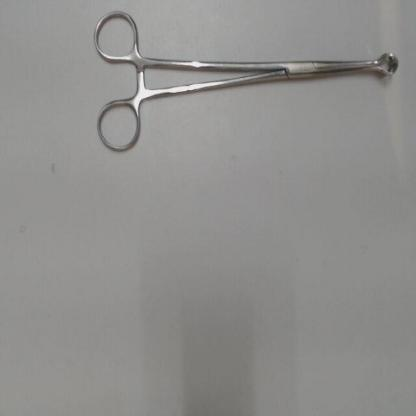8 Babcock Tissue Forceps: (91, 3, 403, 157)
